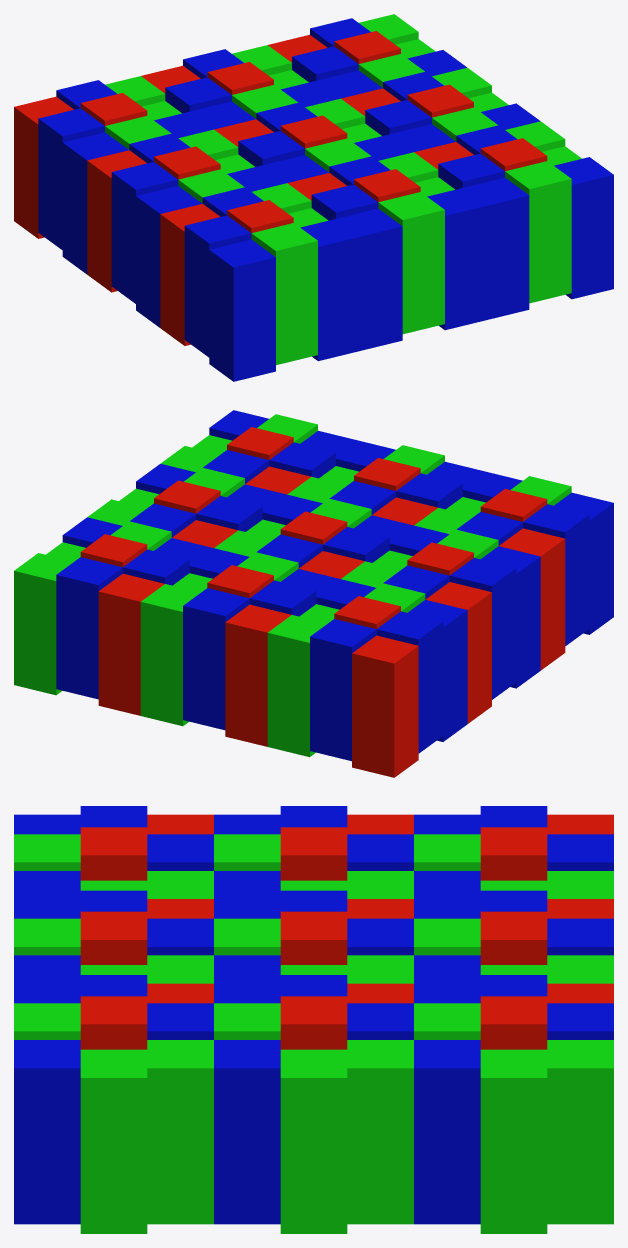
File: Dalle3.fbx
The picture shows the model from 3 angles, top to bottom: view 1: azimuth 30°, elevation 25°; view 2: azimuth 150°, elevation 25°; view 3: azimuth 270°, elevation 25°; orthographic projection. The views are drawn at different scales.
Parts seen in each view (by area): view 1: Dalle.002; view 2: Dalle.002; view 3: Dalle.002.
Boxes of the visible parts, bbox=[...] form: Dalle.002: bbox=[14, 14, 613, 381]; Dalle.002: bbox=[14, 410, 613, 777]; Dalle.002: bbox=[14, 806, 613, 1233].
Size of the model in its own units: 300 by 100 by 300.
